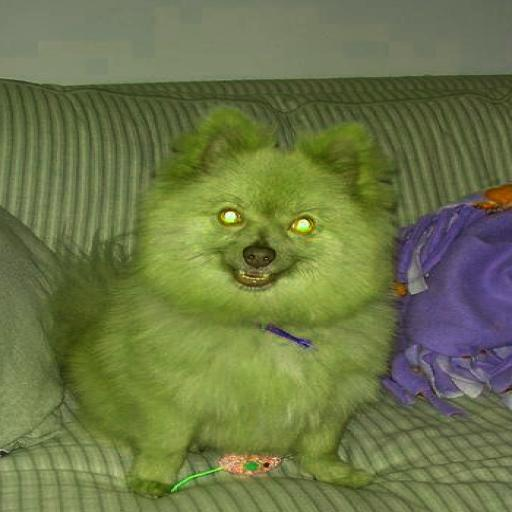dog_face: (162, 120, 400, 293)
